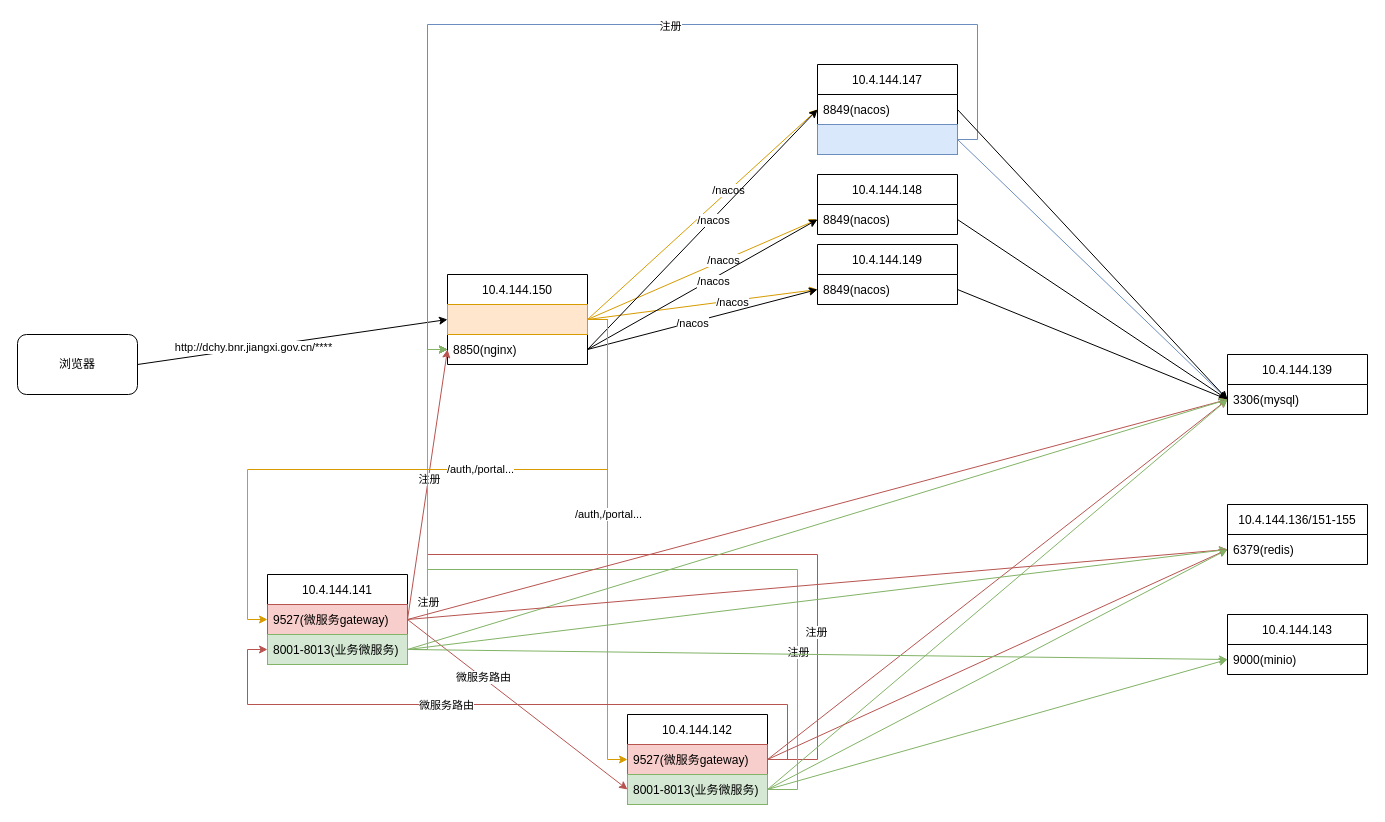
Some shapes in this 1385 by 822 pixel diagram are drawn without their labels. The shapes that lost their labels are listed below. From the top down, each one's centre as x and y in pixels, then its label:
the point at 887,139: 8091(seata)
the point at 517,319: 80(nginx)
